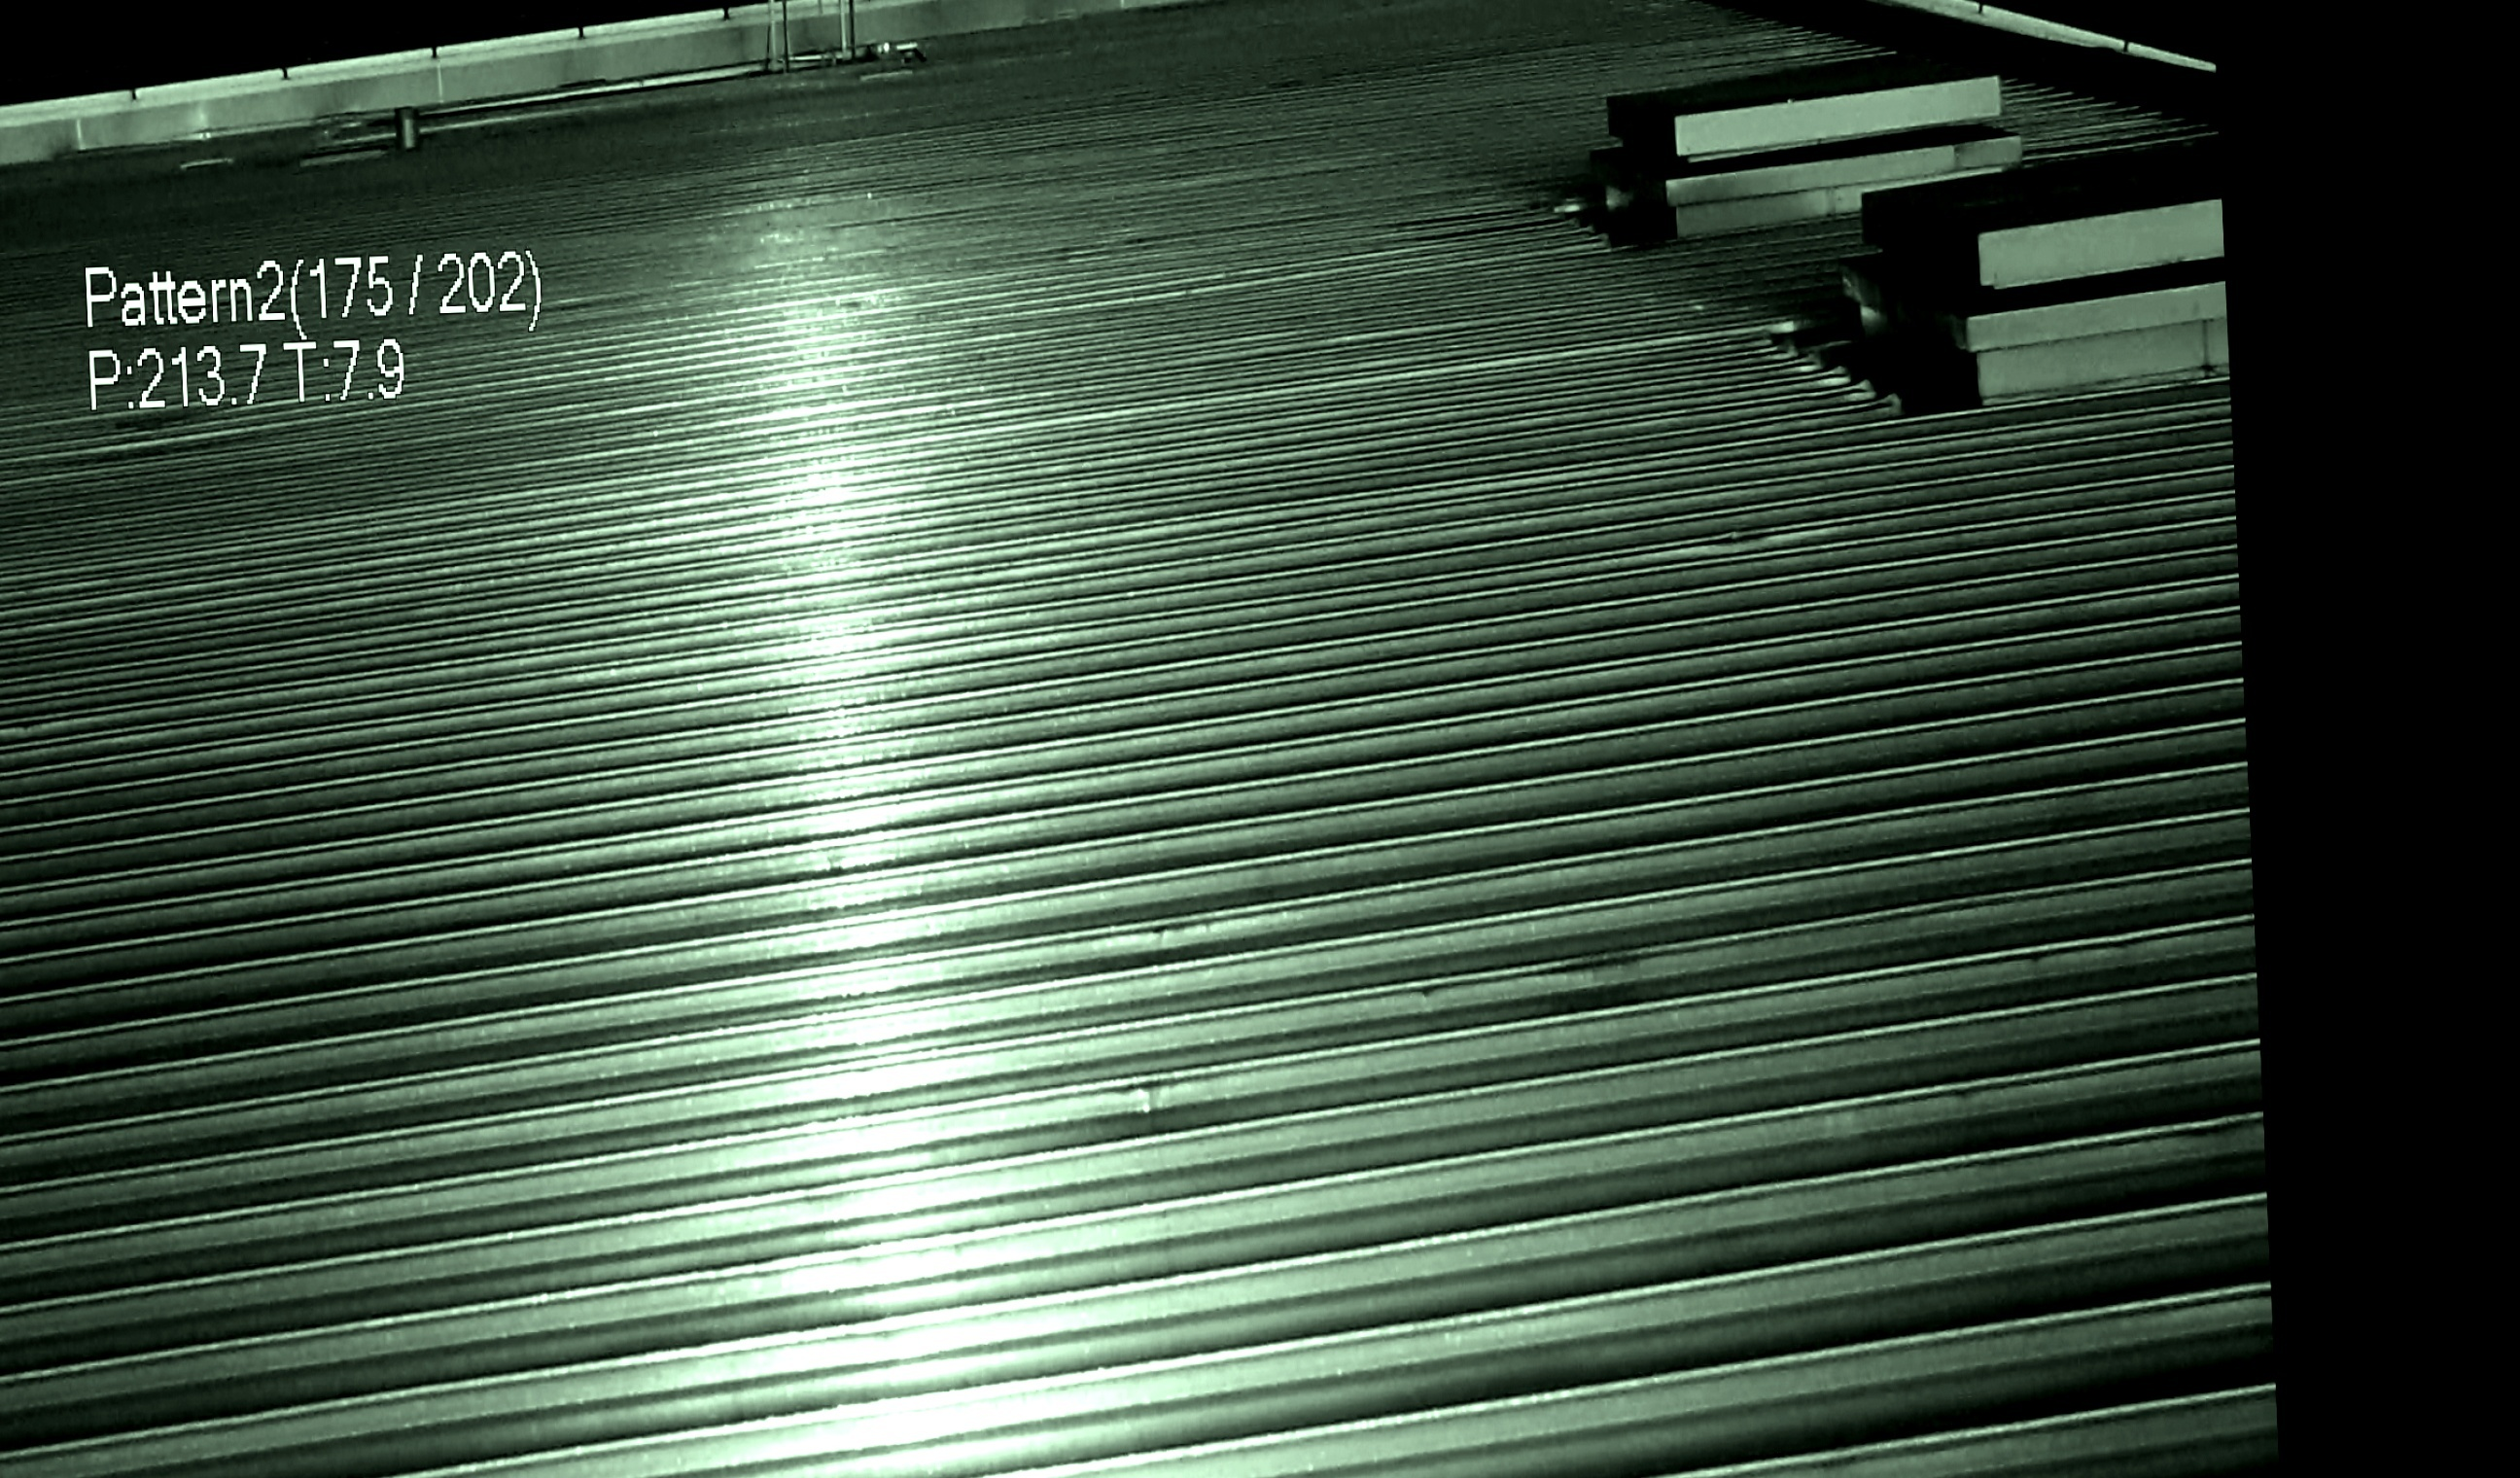Other: (1822, 220, 2012, 413)
